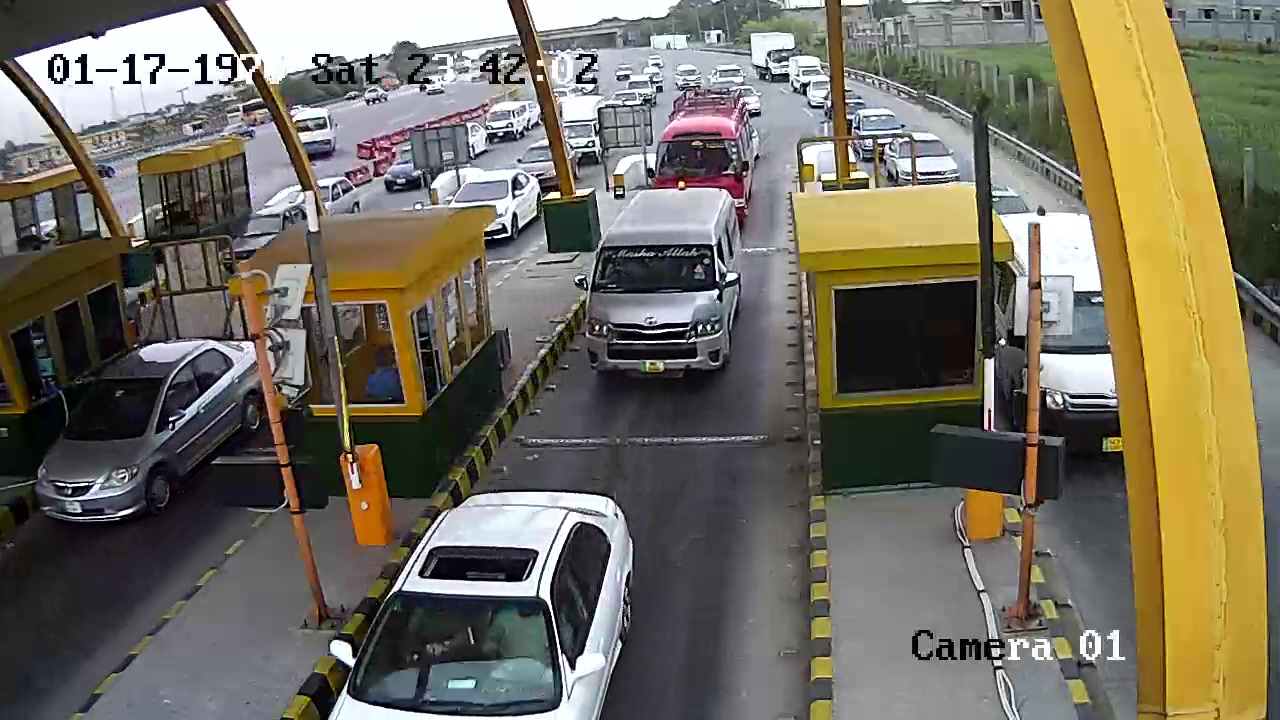F2: (583, 179, 748, 392)
